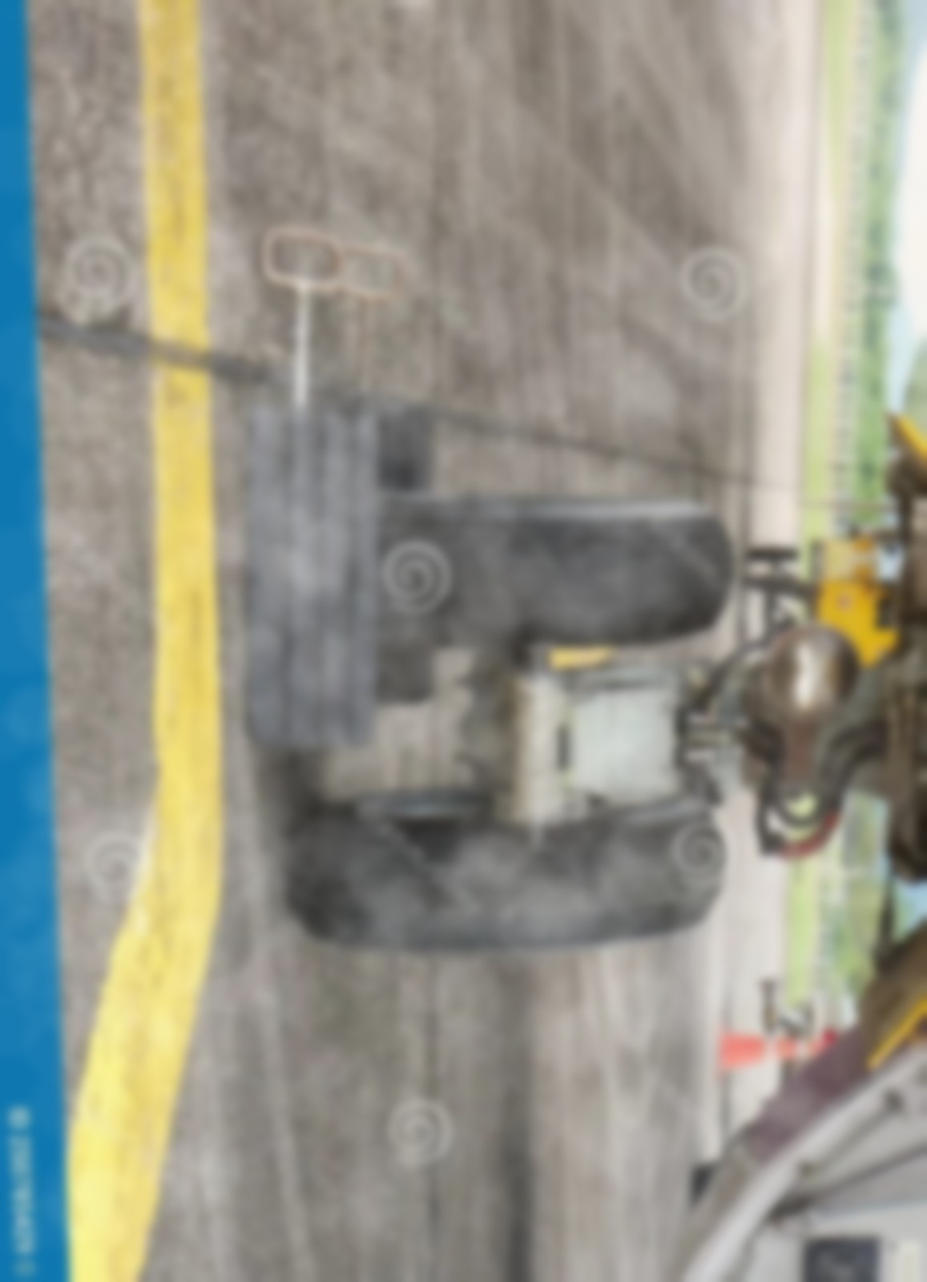chock: (247, 402, 380, 757), (373, 392, 440, 712)
wheel: (297, 776, 725, 956), (379, 495, 740, 655)
